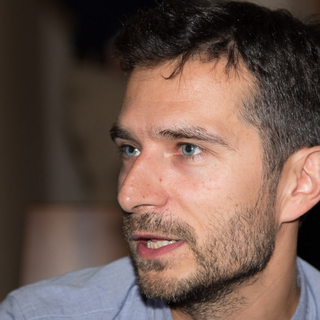eye: (166, 136, 211, 164), (112, 138, 146, 163)
